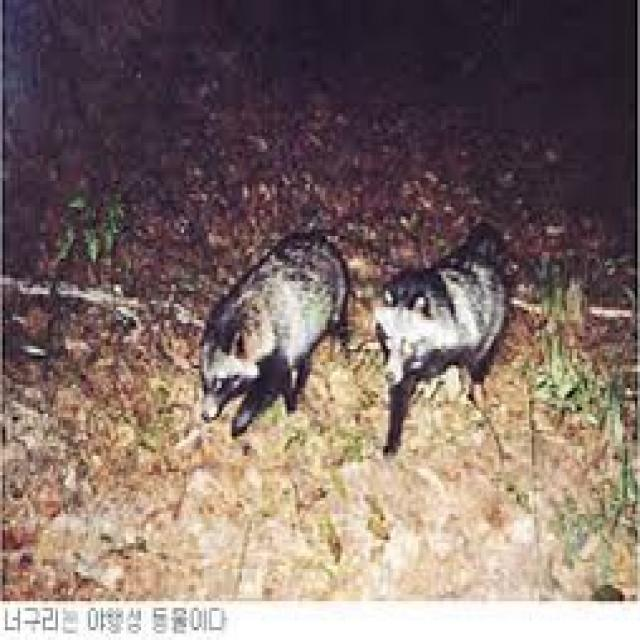racoon: (364, 237, 514, 458), (202, 231, 333, 423)
